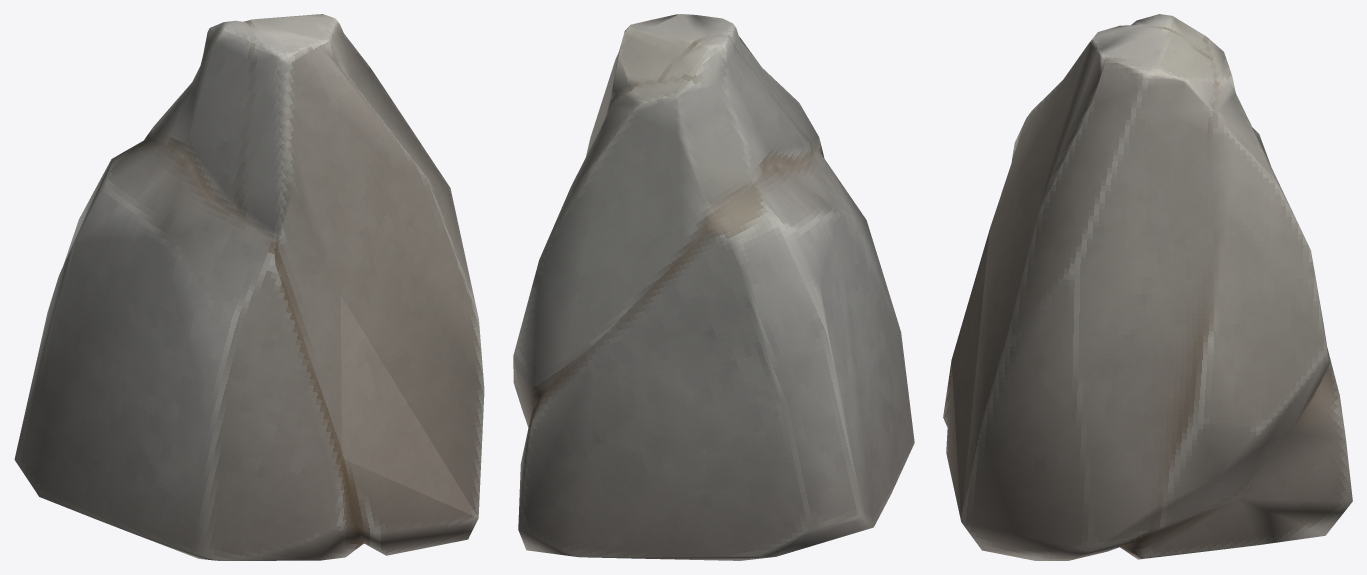
File: pedra_05.glb
3 renders of one model, left to right at view 1: azimuth 30°, elevation 25°; view 2: azimuth 150°, elevation 25°; view 3: azimuth 270°, elevation 25°, orthographic. The views are drawn at different scales.
Visible parts, largest first — view 1: SM_Rocks_05; view 2: SM_Rocks_05; view 3: SM_Rocks_05.
Boxes of the visible parts, x1,y1,x2,y2 form: SM_Rocks_05: [14, 14, 484, 560]; SM_Rocks_05: [513, 14, 914, 560]; SM_Rocks_05: [943, 14, 1352, 560].
Bounding box in the file's own units: 0.8974 × 1.14 × 0.9027.
Materials: 1 (1 with a texture image).
